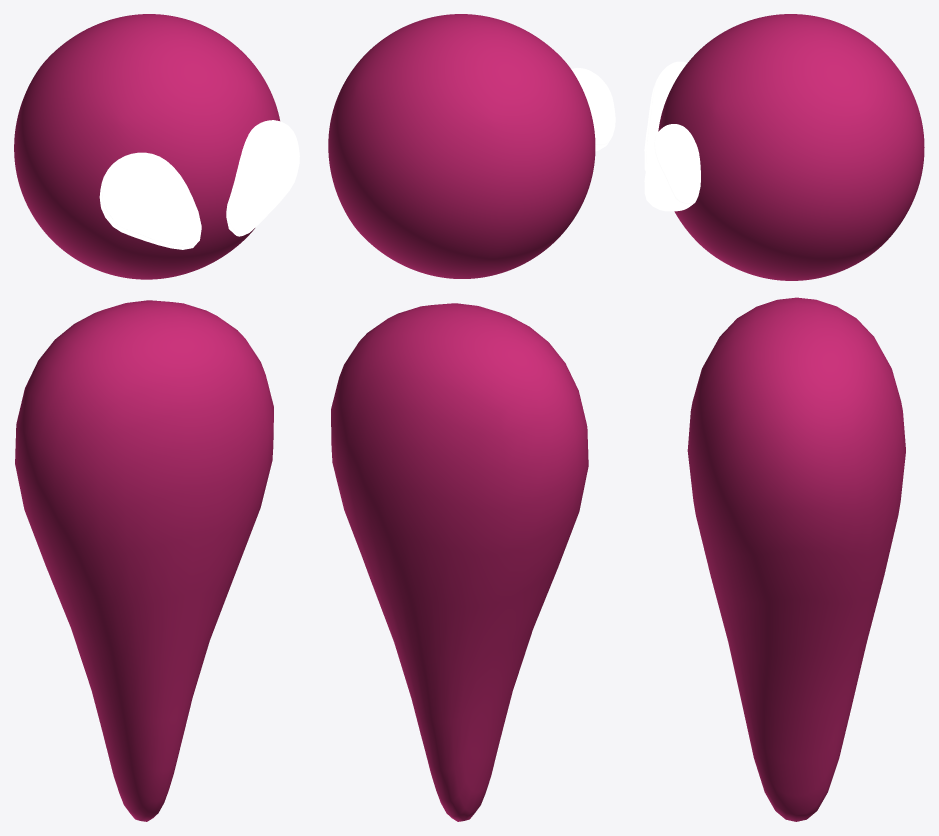
The model's file is finalAVI.glb.
3 renders of one model, left to right at view 1: azimuth 30°, elevation 25°; view 2: azimuth 150°, elevation 25°; view 3: azimuth 270°, elevation 25°, orthographic.
Visible parts, largest first — view 1: Roundcube004, cabeza, cuerpo_cilindro; view 2: Roundcube004, cabeza, cuerpo_cilindro; view 3: Roundcube004, cabeza, cuerpo_cilindro.
Boxes of the visible parts, x1,y1,x2,y2 form: Roundcube004: (15, 300, 273, 821); cabeza: (14, 14, 279, 279); cuerpo_cilindro: (99, 120, 299, 249); Roundcube004: (331, 303, 588, 821); cabeza: (328, 14, 595, 278); cuerpo_cilindro: (571, 68, 615, 151); Roundcube004: (687, 297, 905, 821); cabeza: (658, 14, 924, 280); cuerpo_cilindro: (644, 61, 700, 211).
Size of the model in its own units: 2.32 by 7.45 by 2.37.
